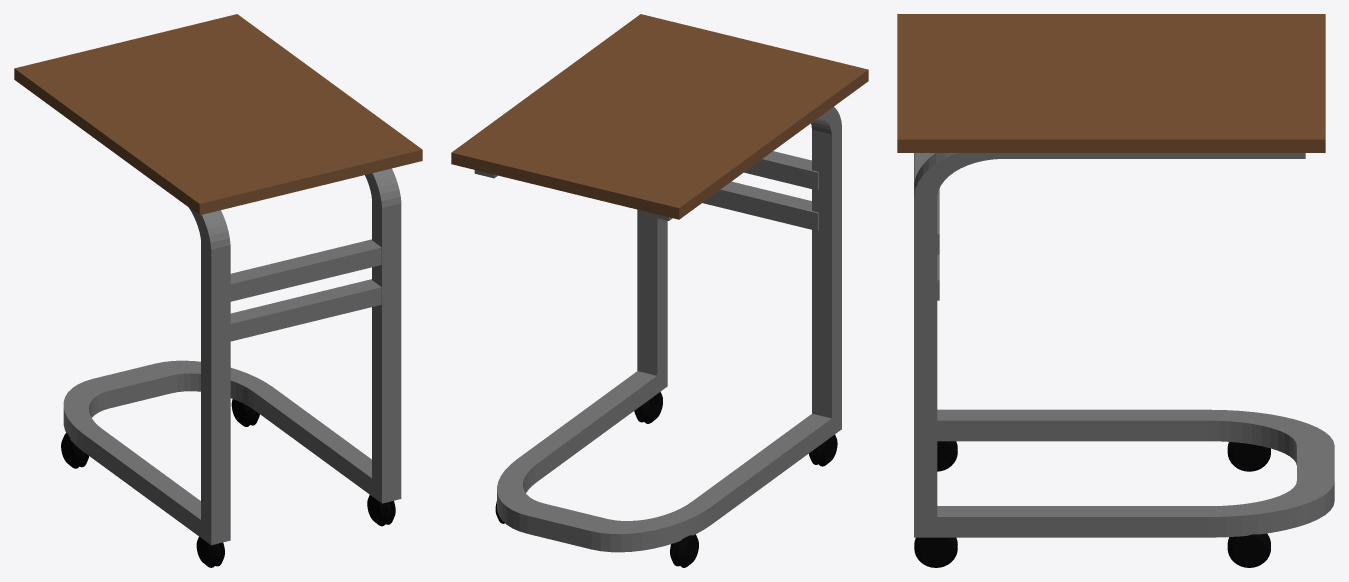
Rendered from Hasta_Masas.fbx.
3 renders of one model, left to right at view 1: azimuth 30°, elevation 25°; view 2: azimuth 150°, elevation 25°; view 3: azimuth 270°, elevation 25°, orthographic. The views are drawn at different scales.
Parts seen in each view (by area): view 1: Cube.001; view 2: Cube.001; view 3: Cube.001.
Boxes of the visible parts, x1,y1,x2,y2 form: Cube.001: (14, 14, 422, 567); Cube.001: (451, 14, 868, 567); Cube.001: (897, 14, 1334, 567).
Bounding box in the file's own units: 391 × 639 × 575.
